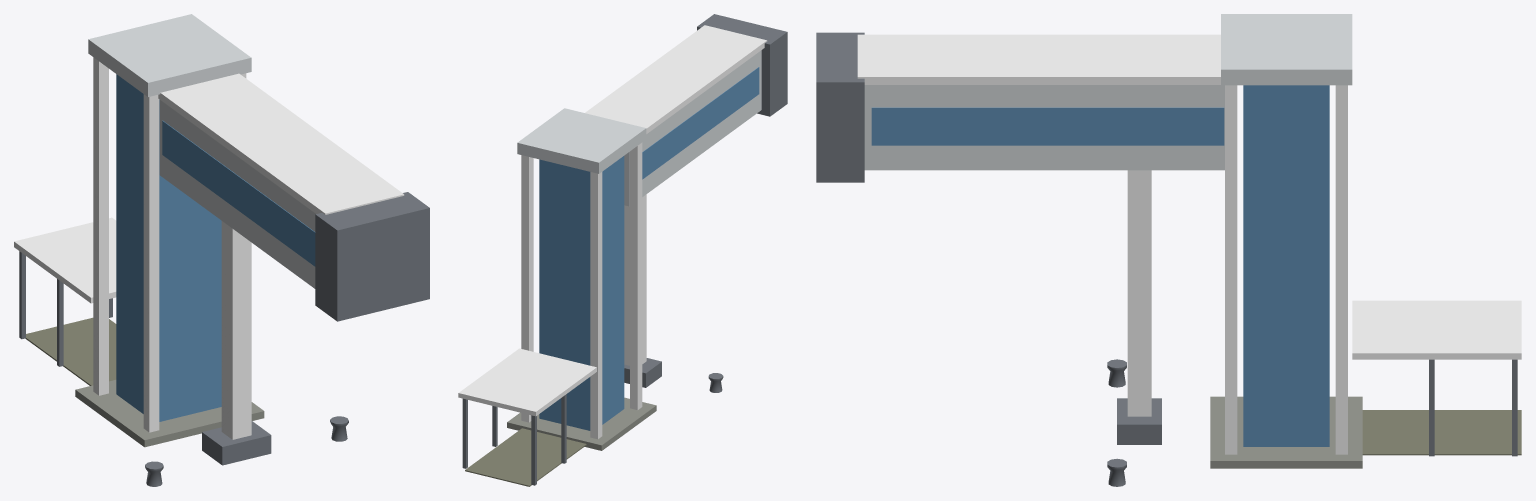
Rendered from port_crane.fbx.
The picture shows the model from 3 angles, left to right: view 1: azimuth 30°, elevation 25°; view 2: azimuth 150°, elevation 25°; view 3: azimuth 270°, elevation 25°; orthographic projection. The views are drawn at different scales.
Parts seen in each view (by area): view 1: a1068_0_port_crane; view 2: a1068_0_port_crane; view 3: a1068_0_port_crane.
Boxes of the visible parts, bbox=[...] form: a1068_0_port_crane: bbox=[14, 14, 429, 486]; a1068_0_port_crane: bbox=[458, 14, 787, 486]; a1068_0_port_crane: bbox=[816, 14, 1521, 486].
Size of the model in its own units: 7.4 by 12.6 by 20.4.
